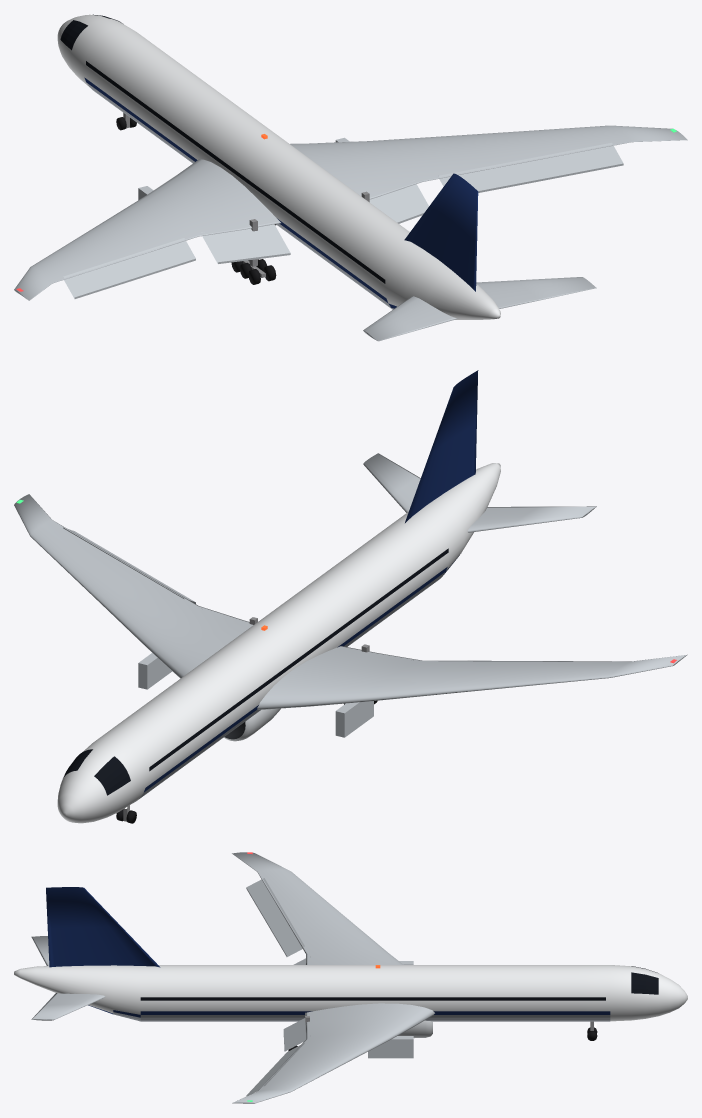
3 views of the same model, one above another, from view 1: azimuth 30°, elevation 25°; view 2: azimuth 150°, elevation 25°; view 3: azimuth 270°, elevation 25° (orthographic). The views are drawn at different scales.
Visible parts, largest first — view 1: b77w_lod0_wing, b77w_lod0_white, b77w_lod0_blue, b77w_lod0_glass, b77w_lod0_belly, b77w_lod0_tyre; view 2: b77w_lod0_white, b77w_lod0_wing, b77w_lod0_blue, b77w_lod0_glass, b77w_lod0_belly; view 3: b77w_lod0_white, b77w_lod0_wing, b77w_lod0_blue, b77w_lod0_belly, b77w_lod0_glass.
Boxes of the visible parts, box(x1,y1,x2,y2) form: b77w_lod0_wing: box(14, 125, 687, 341); b77w_lod0_white: box(57, 14, 500, 319); b77w_lod0_blue: box(84, 77, 478, 308); b77w_lod0_glass: box(60, 14, 385, 283); b77w_lod0_belly: box(86, 82, 393, 309); b77w_lod0_tyre: box(116, 117, 276, 284); b77w_lod0_white: box(57, 463, 500, 823); b77w_lod0_wing: box(14, 453, 687, 737); b77w_lod0_blue: box(144, 370, 478, 791); b77w_lod0_glass: box(63, 548, 448, 795); b77w_lod0_belly: box(134, 572, 445, 802); b77w_lod0_white: box(14, 965, 687, 1021); b77w_lod0_wing: box(31, 852, 434, 1103); b77w_lod0_blue: box(46, 887, 610, 1017); b77w_lod0_belly: box(113, 1012, 610, 1021); b77w_lod0_glass: box(140, 966, 658, 1000).
Bounding box in the file's own units: 64.8 × 18.23 × 73.9.
